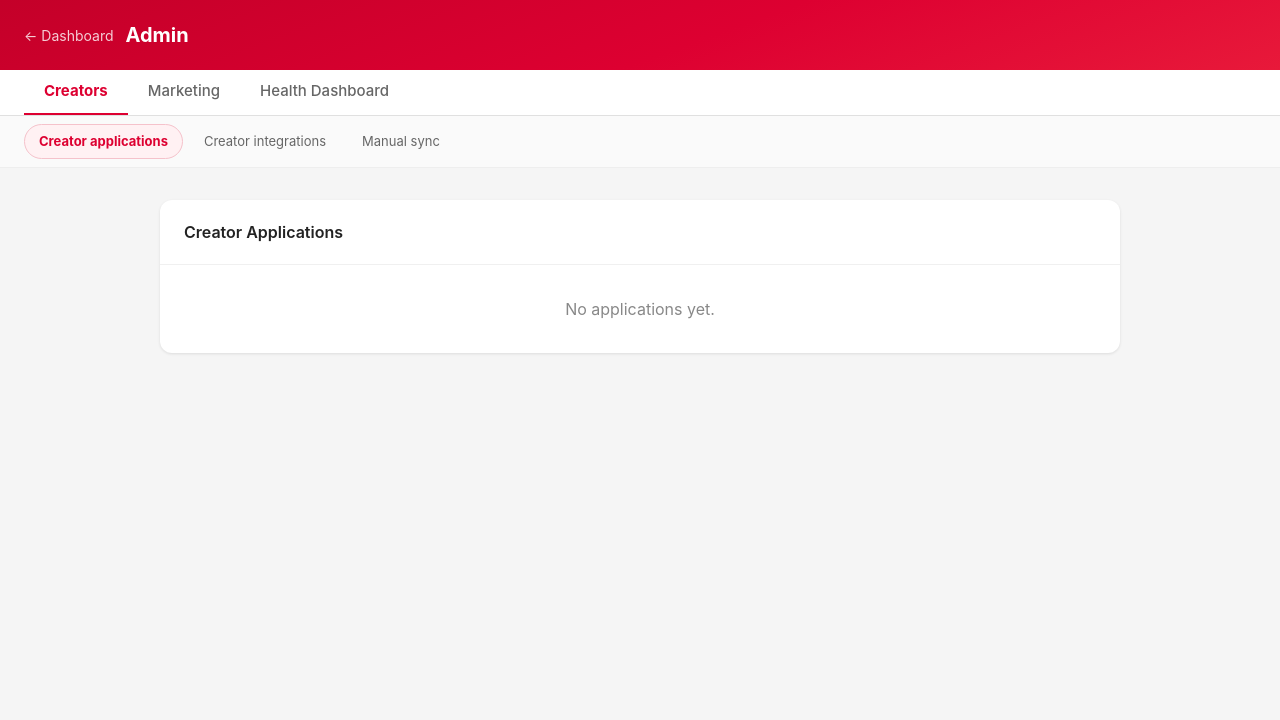
Test: admin Sources tab — health that could not be read › says nothing at all when the read was complete
Click the button "Creator integrations": (265,141) [189,124,341,159]
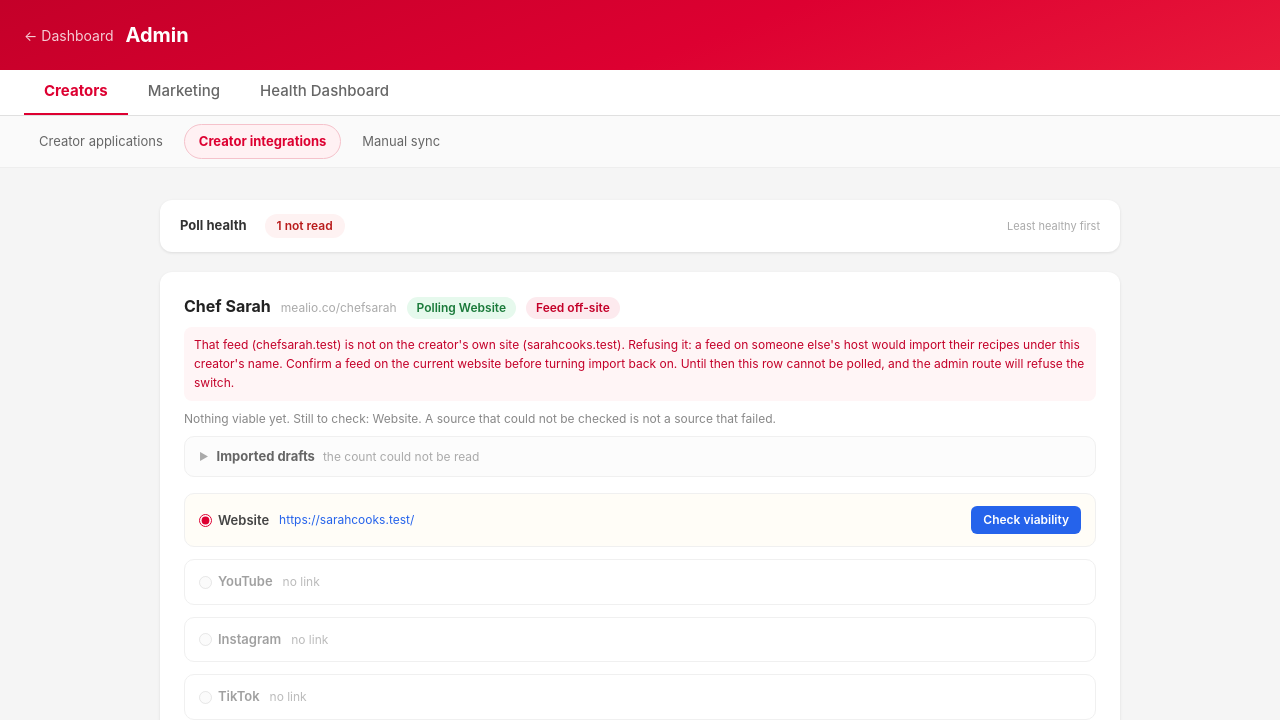
Now the heading "Chef Sarah" is shown, box [184,294,271,318]
